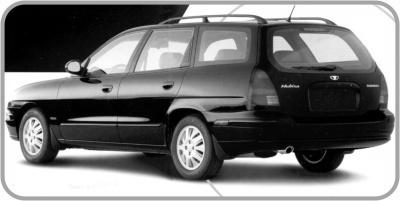car: (5, 6, 397, 185)
